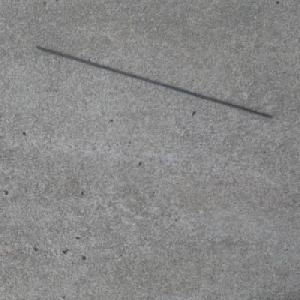LuggagePart: (32, 45, 273, 119)
